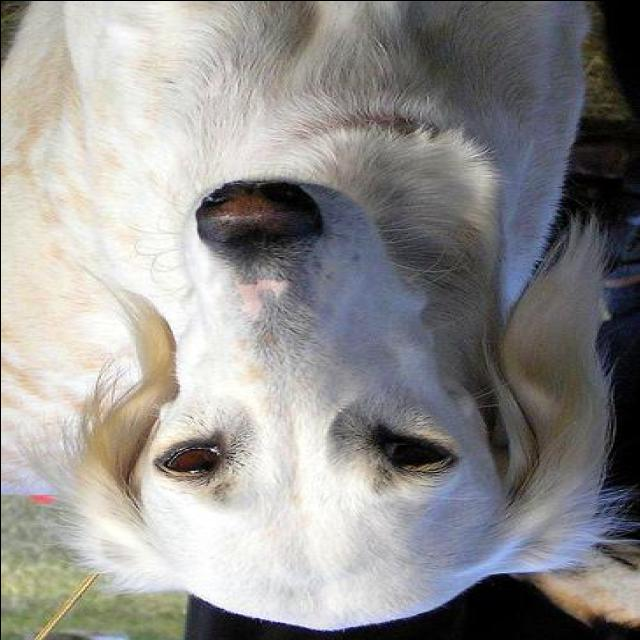saluki: (0, 4, 610, 640)
